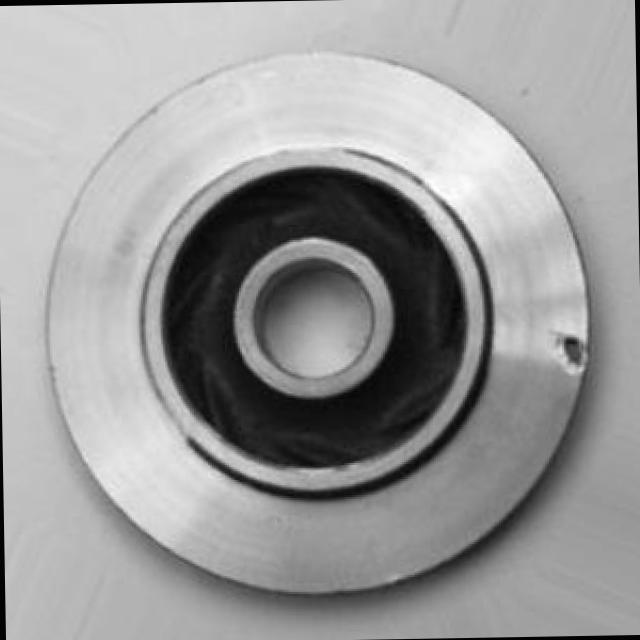Defect: (546, 326, 590, 372)
